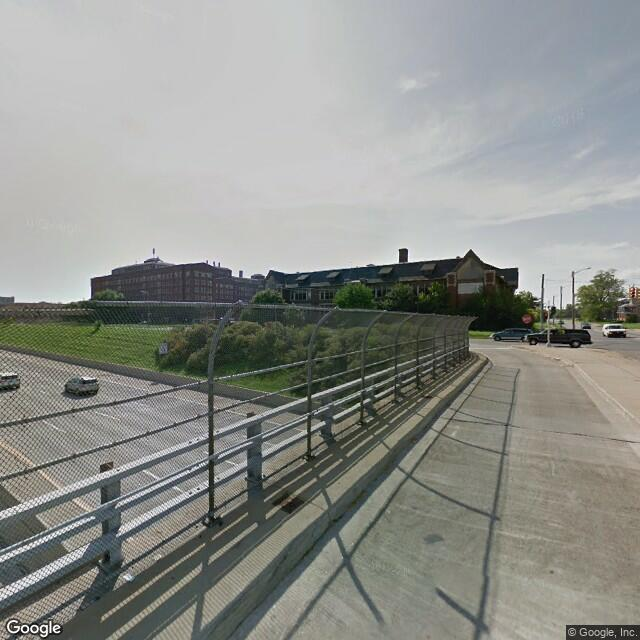litter: (554, 355, 560, 362), (569, 362, 572, 369)
